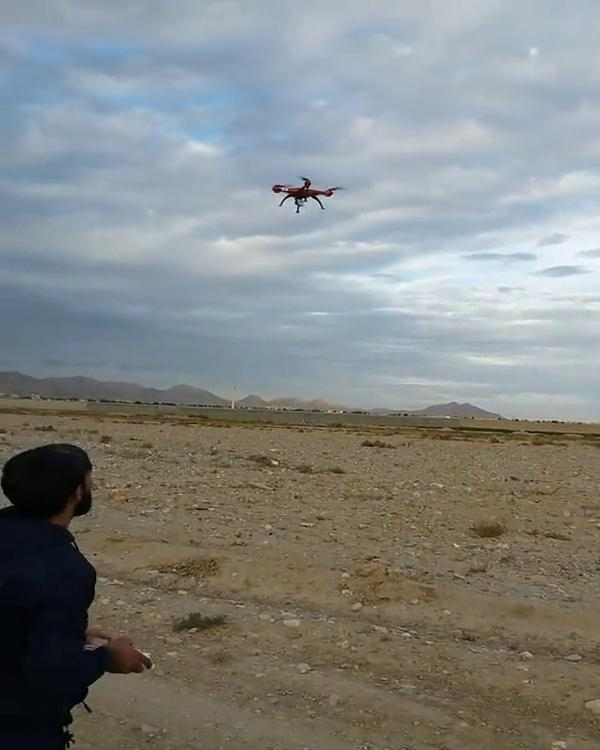drone: (261, 172, 351, 218)
